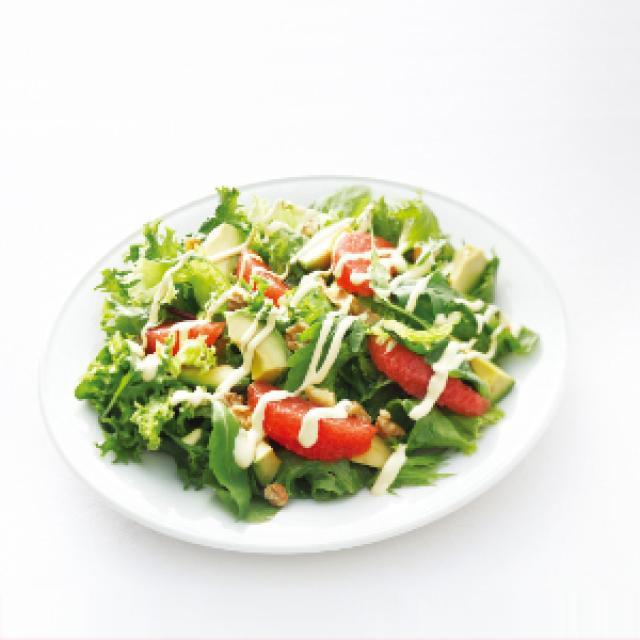Green Salad: (77, 184, 526, 512)
